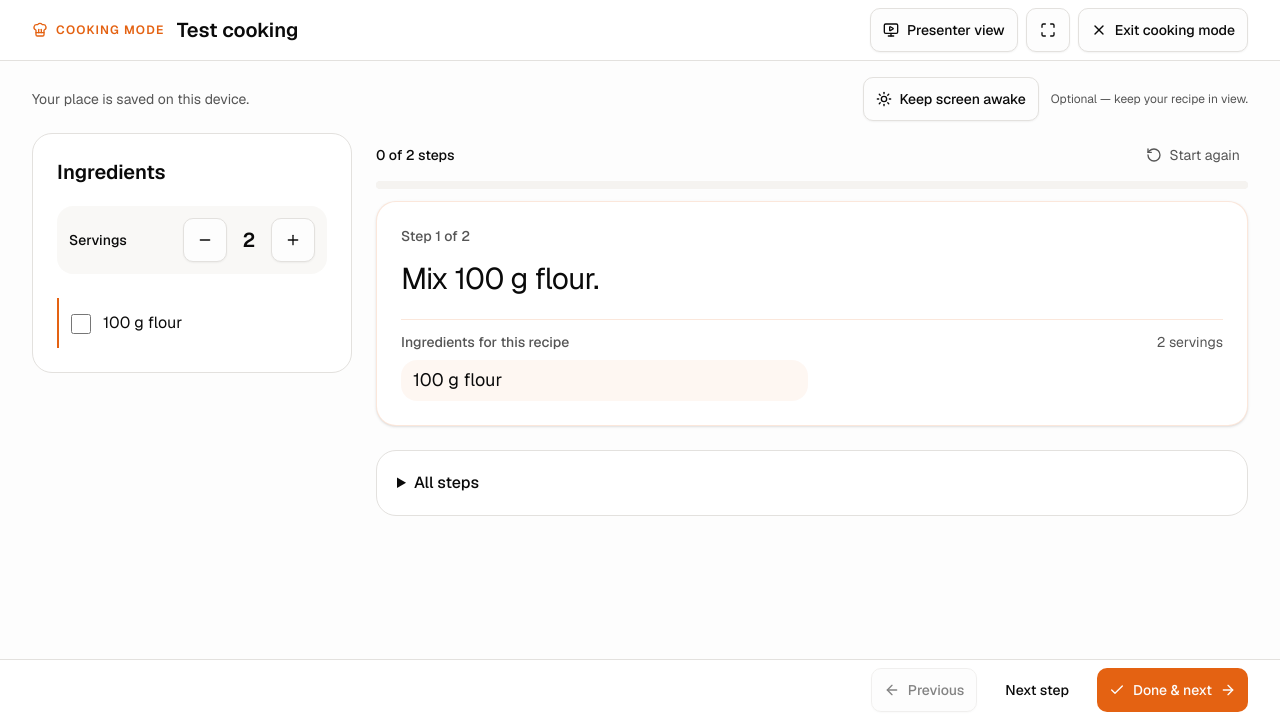
Test case: cooking mode › acquires and releases the screen wake lock when cooking mode closes
Click the button "Keep screen awake" at (951, 99), box [862,77,1039,121]
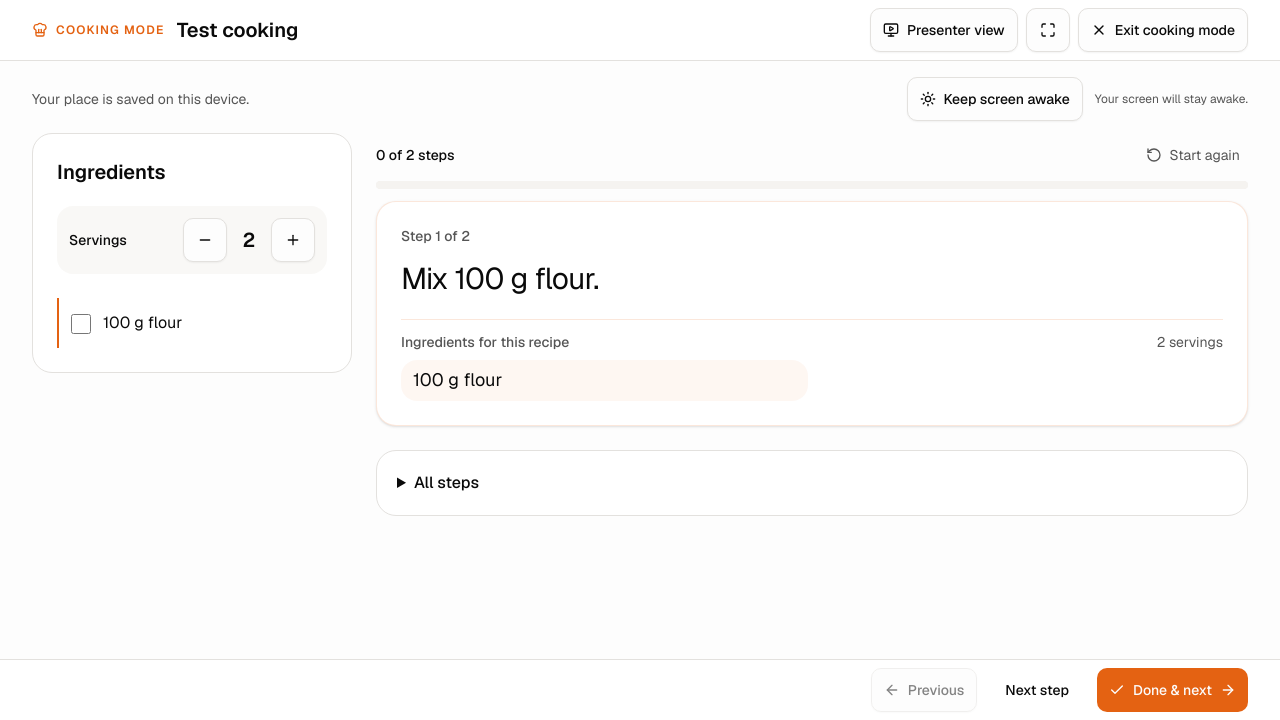
Expected: the message reads "Your screen will stay awake.", [1095,91,1248,107]
